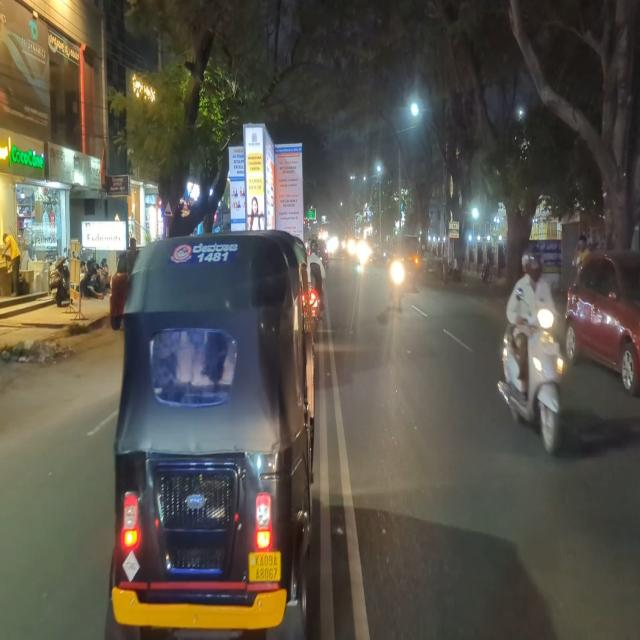bien_cam: (163, 198, 174, 219)
